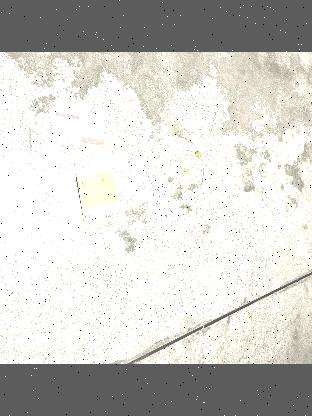Others: (48, 90, 106, 146), (74, 171, 122, 230), (140, 173, 186, 225)
